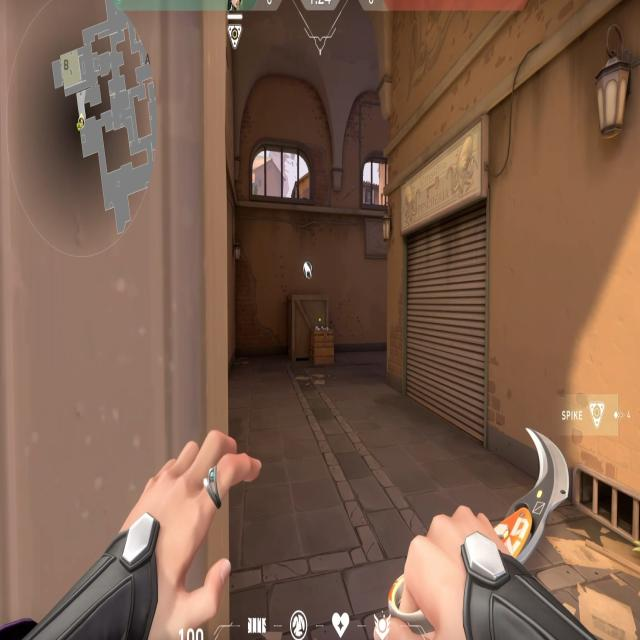B_Main_Corner: (261, 254, 321, 356)
